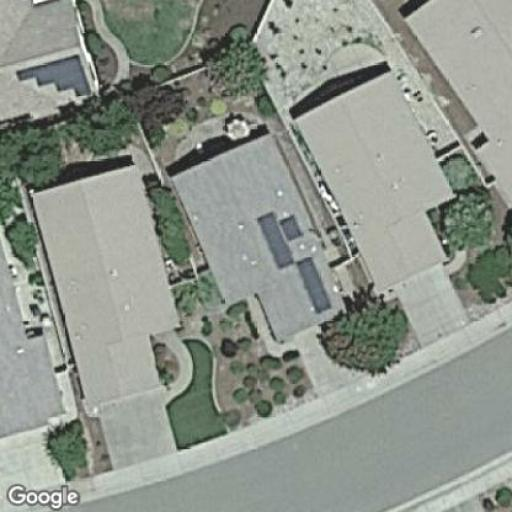solar-panel: (258, 211, 332, 315), (13, 52, 97, 100)
